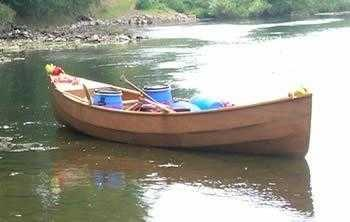kayak: (48, 63, 312, 158)
